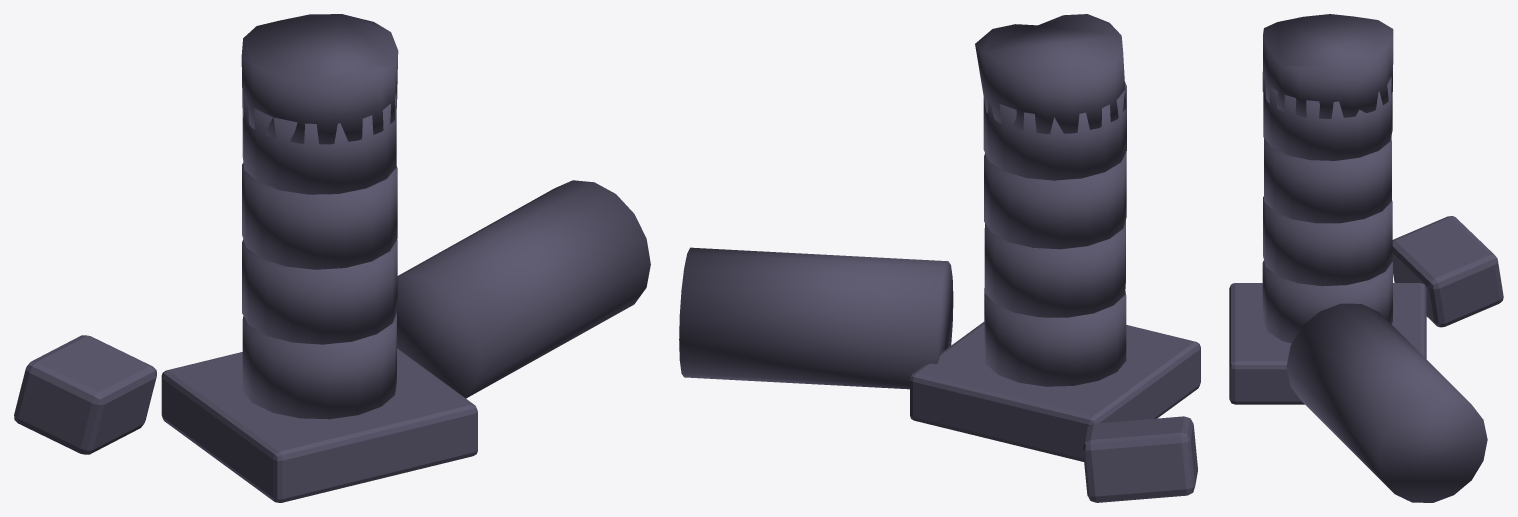
File: ruins.glb
The picture shows the model from 3 angles, left to right: view 1: azimuth 30°, elevation 25°; view 2: azimuth 150°, elevation 25°; view 3: azimuth 270°, elevation 25°; orthographic projection. The views are drawn at different scales.
Parts seen in each view (by area): view 1: Body; view 2: Body; view 3: Body.
Part boxes in pixels (<box>): Body: <box>14,14,650,502</box>; Body: <box>679,14,1200,502</box>; Body: <box>1229,14,1503,502</box>.
Bounding box in the file's own units: 2.88 × 1.9 × 1.39.
